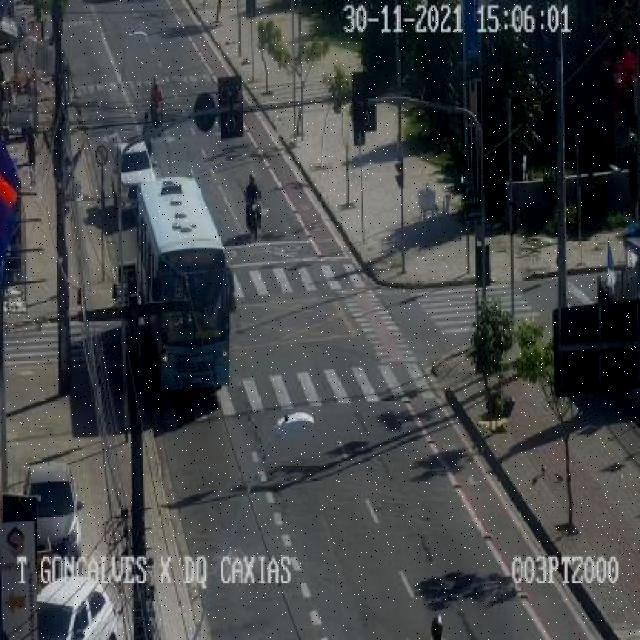Bus: (120, 171, 238, 404)
Car: (14, 467, 100, 549), (35, 569, 130, 640), (96, 142, 162, 205)
Cycle: (232, 167, 274, 235), (140, 80, 184, 138)
